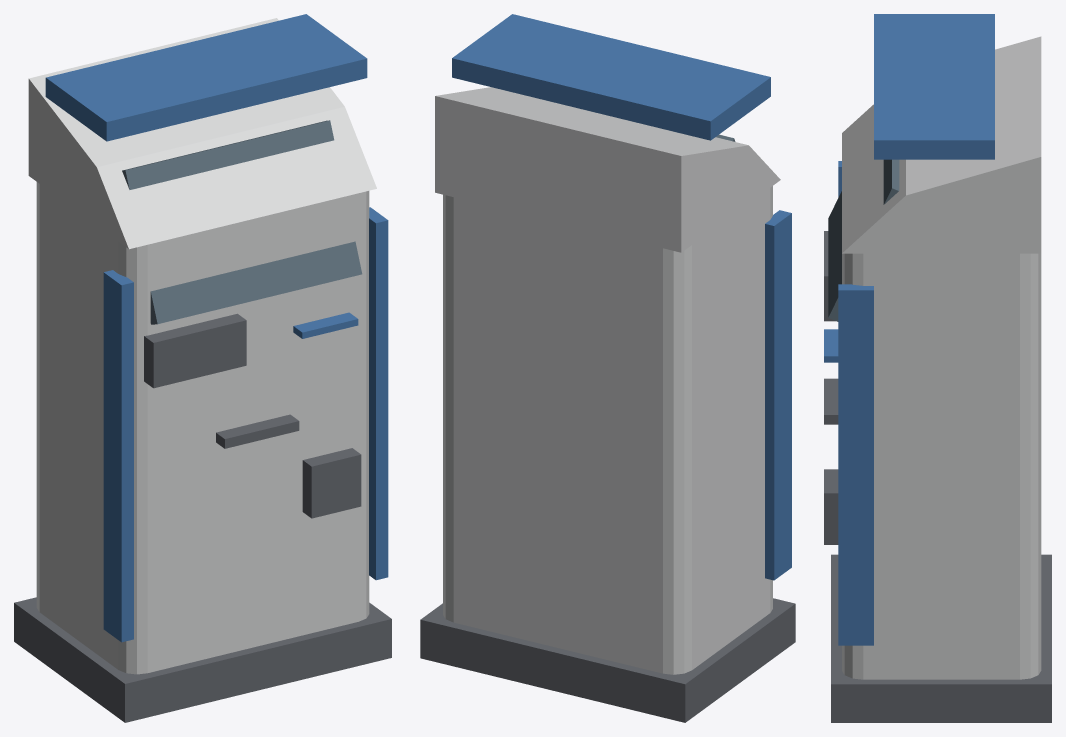
Rendered from modern-rail-and-metro-network-ticket-machine-dc3e6a42.glb.
3 views of the same model, side by side, from view 1: azimuth 30°, elevation 25°; view 2: azimuth 150°, elevation 25°; view 3: azimuth 270°, elevation 25° (orthographic).
Visible parts, largest first — view 1: ticket-machine; view 2: ticket-machine; view 3: ticket-machine.
Boxes of the visible parts, x1,y1,x2,y2 form: ticket-machine: (14,14,391,722); ticket-machine: (420,14,795,722); ticket-machine: (824,14,1051,722).
Bounding box in the file's own units: 0.8601 × 1.8 × 0.64.
